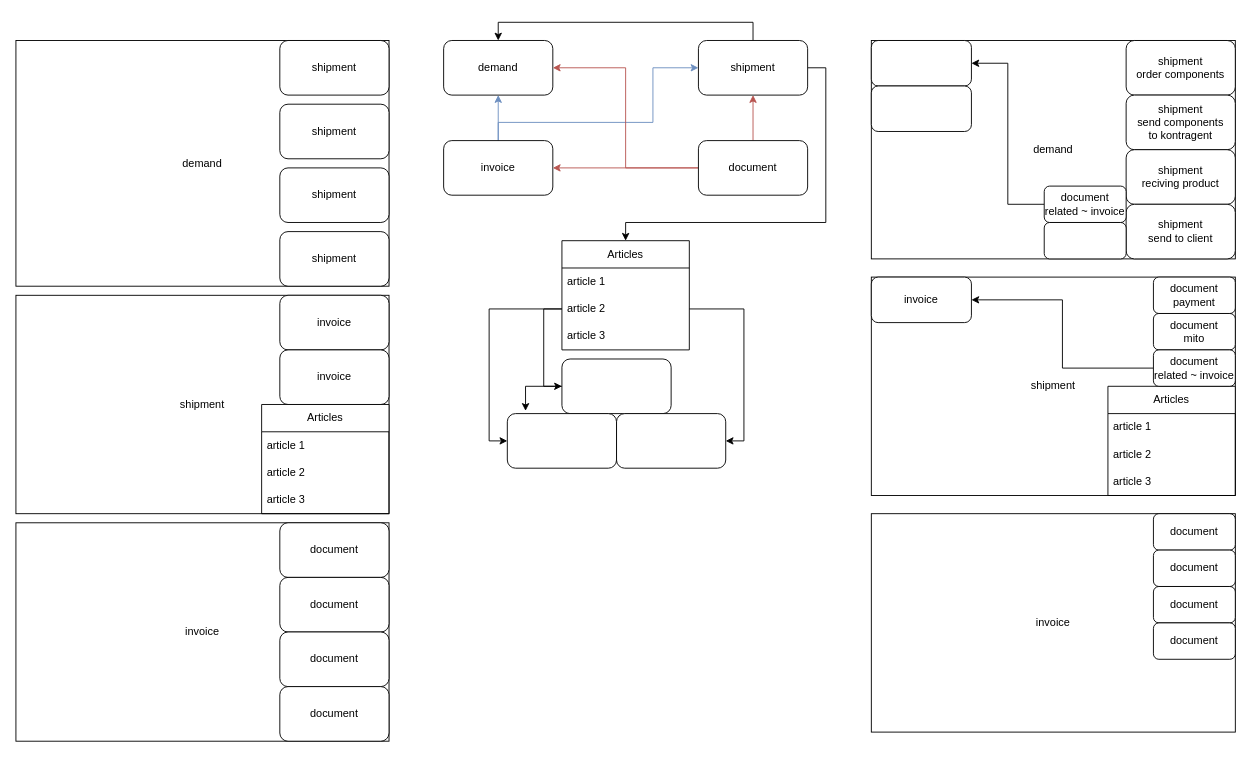
Some shapes in this 1251 by 757 pixel diagram are drawn without their labels. The centre of each missing label's shape, as x and y in pixels:
"document related ~ demand" belongs at (1084,240).
"final invoice 50%" belongs at (920,108).
"history" belongs at (561,440).
"invoice prepayment 50%" belongs at (920,63).
"single log" belongs at (671,440).
"storage articles" belongs at (616,386).
